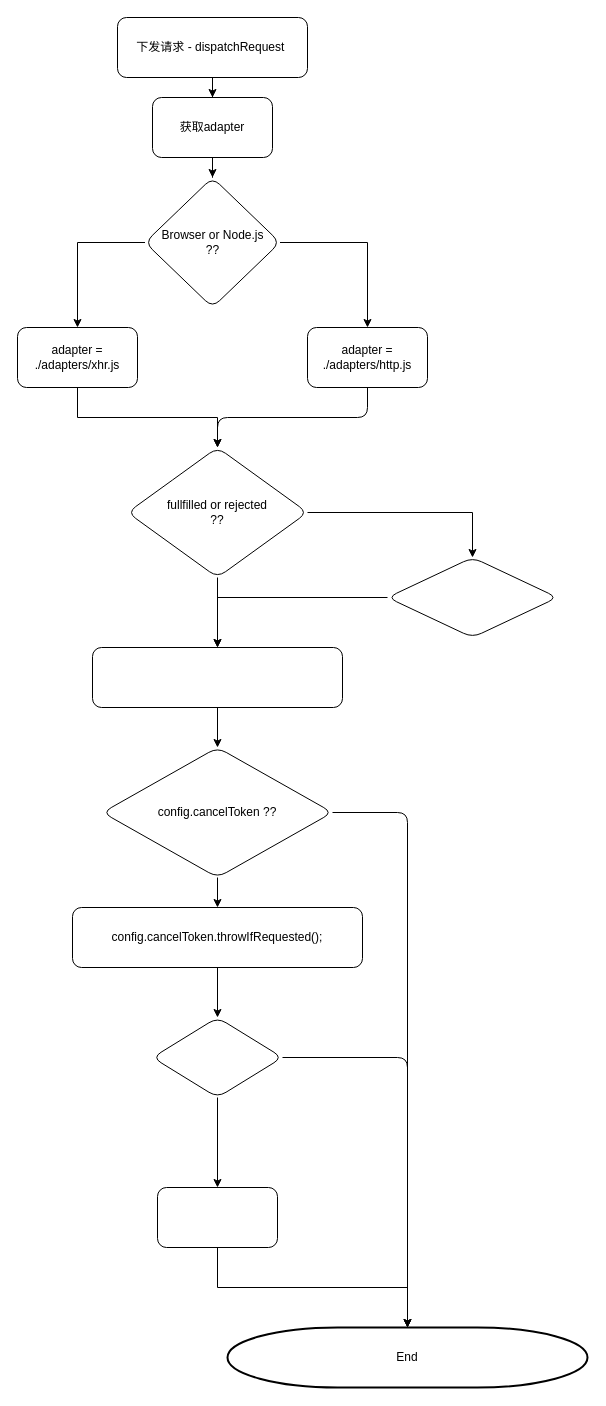
Image size: 606x1406. Some labels were removed from this diagram. The shapes that lost their labels are listed below. From the top down, each one's box as (x1, y1, x2, y2) in pixels, then its label:
(386, 556, 558, 638): !isCancel(reason)
(92, 646, 342, 708): throwIfCancellationRequested(config);
(152, 1016, 282, 1098): this.reason ??
(156, 1186, 278, 1248): throw this.reason
